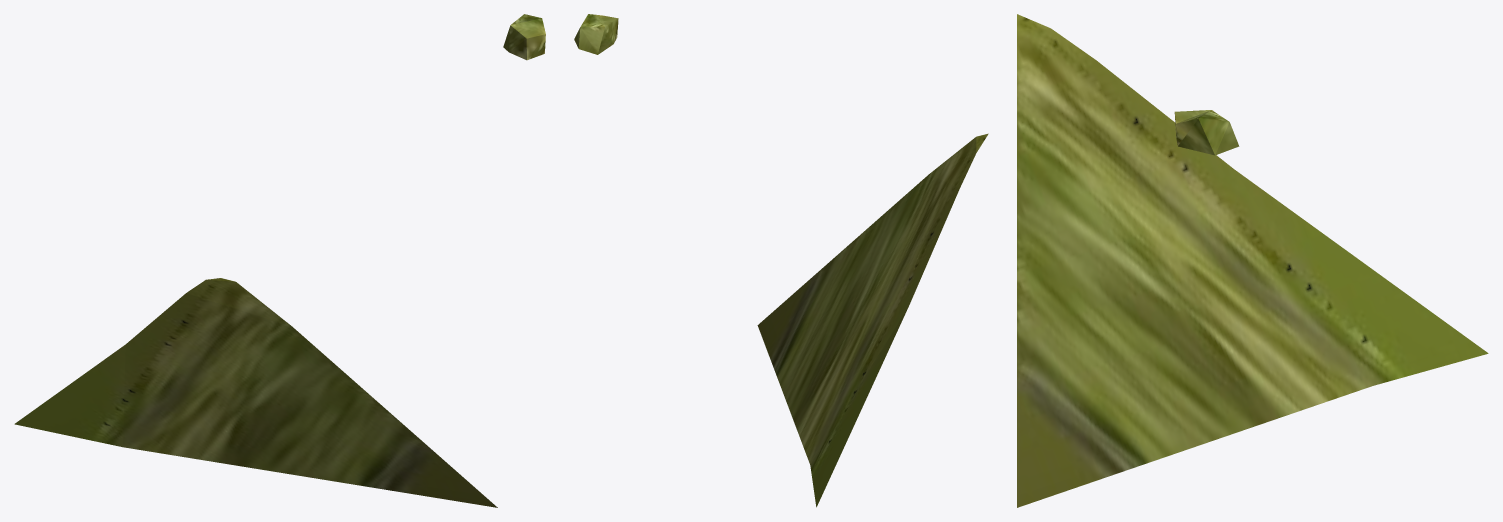
3 renders of one model, left to right at view 1: azimuth 30°, elevation 25°; view 2: azimuth 150°, elevation 25°; view 3: azimuth 270°, elevation 25°, orthographic. The views are drawn at different scales.
Size of the model in its own units: 1.73 by 1.61 by 1.51.
Materials: 1 (1 with a texture image).
